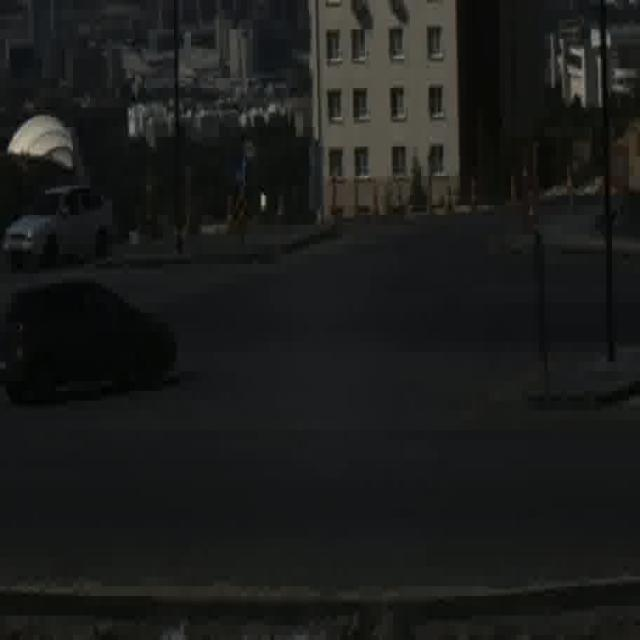Car: (2, 279, 175, 399), (5, 184, 114, 264)
